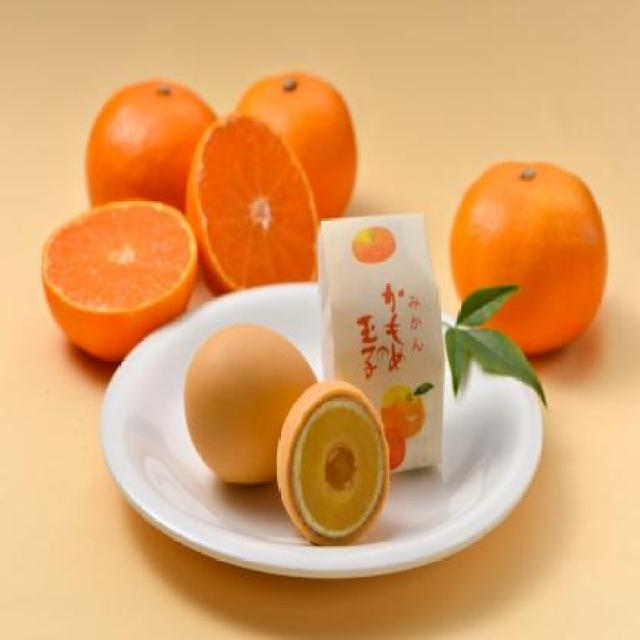Orange: (448, 157, 608, 357), (183, 111, 320, 294), (234, 70, 357, 218), (83, 75, 215, 211)
